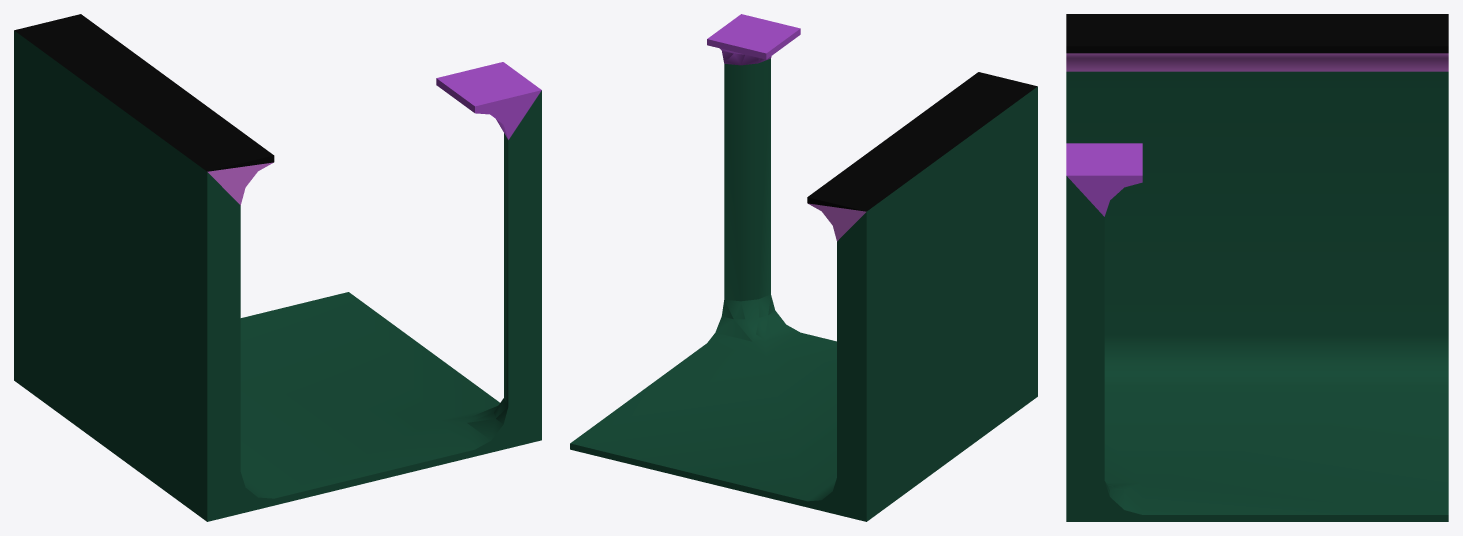
Rendered from Tileset_23.fbx.
3 views of the same model, side by side, from view 1: azimuth 30°, elevation 25°; view 2: azimuth 150°, elevation 25°; view 3: azimuth 270°, elevation 25° (orthographic). The views are drawn at different scales.
Visible parts, largest first — view 1: Tileset_23; view 2: Tileset_23; view 3: Tileset_23.
Boxes of the visible parts, x1,y1,x2,y2 form: Tileset_23: (14, 14, 541, 521); Tileset_23: (570, 14, 1037, 521); Tileset_23: (1066, 14, 1448, 521).
Bounding box in the file's own units: 100 × 100 × 100.
